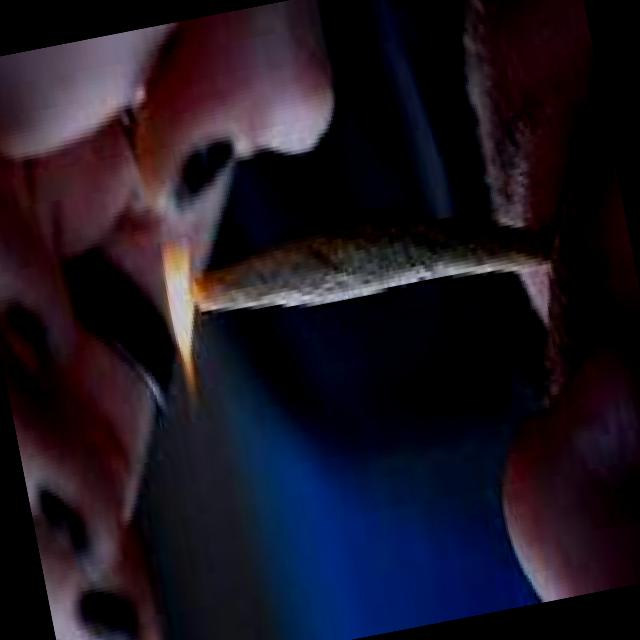cigarette: (182, 192, 558, 355)
